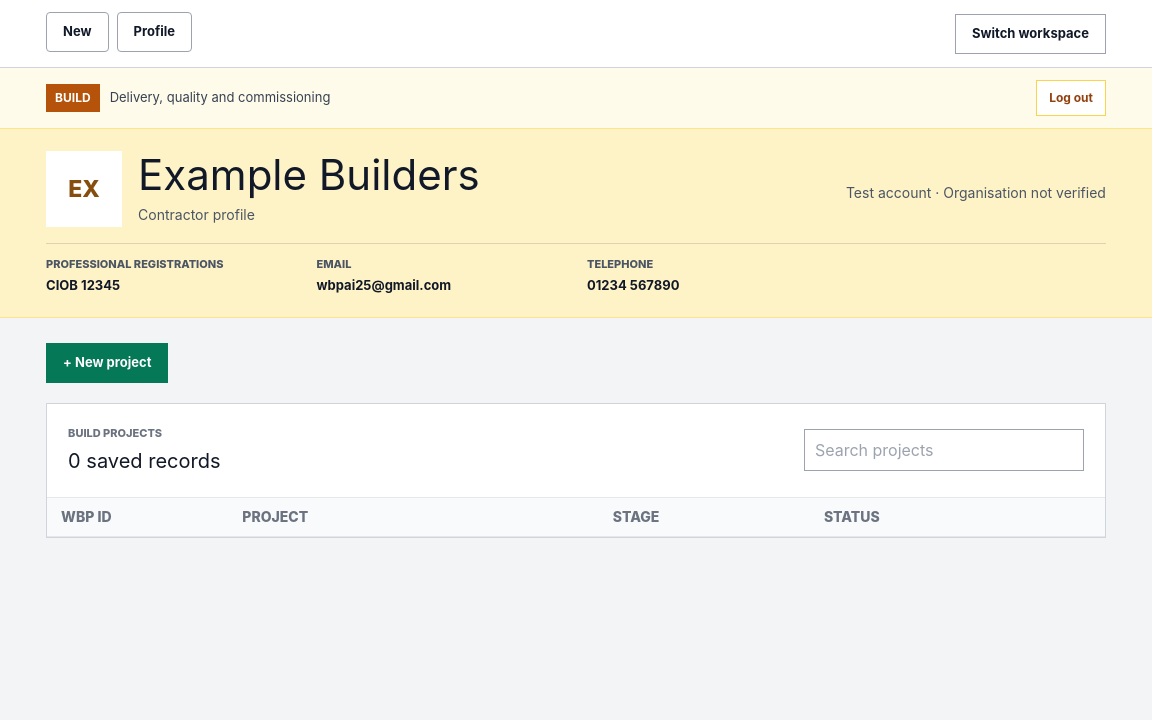
Test case: Build New tab opens and saves a build-specific record
Click the button "+ New project".
click(107, 363)  # box [46,343,168,383]
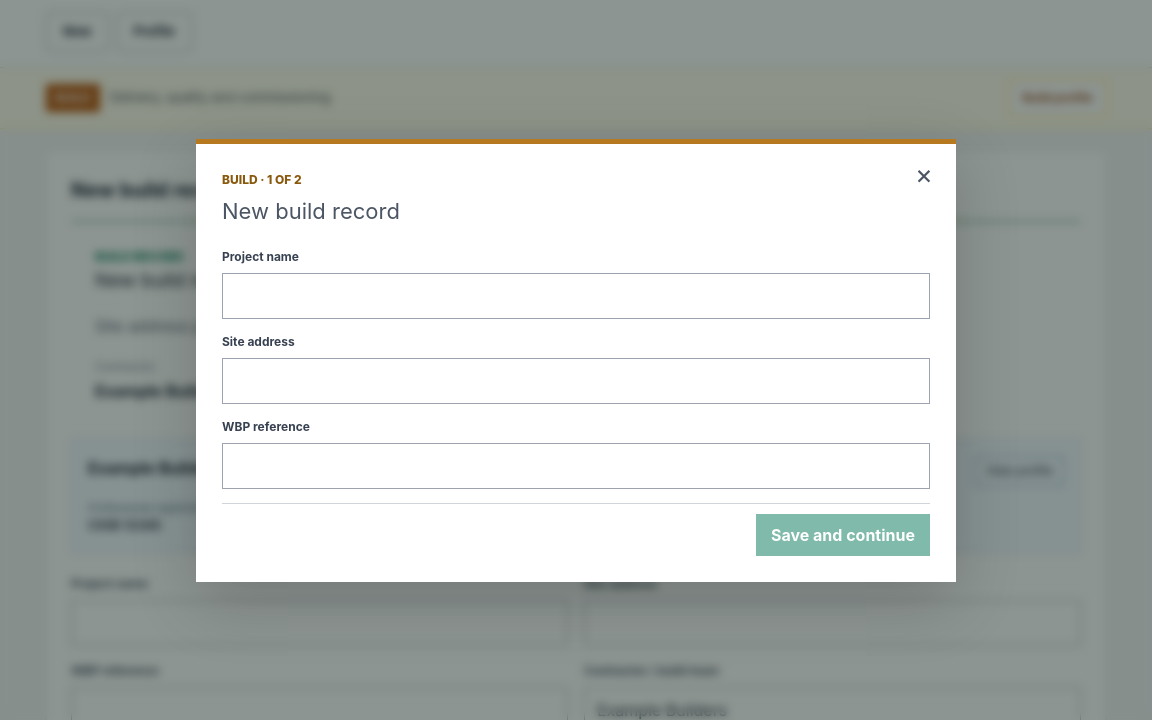
Type "Bridgewood retrofit" into the field labelled "Project name".
click(576, 296); type("Bridgewood retrofit")  # box [222,272,930,318]
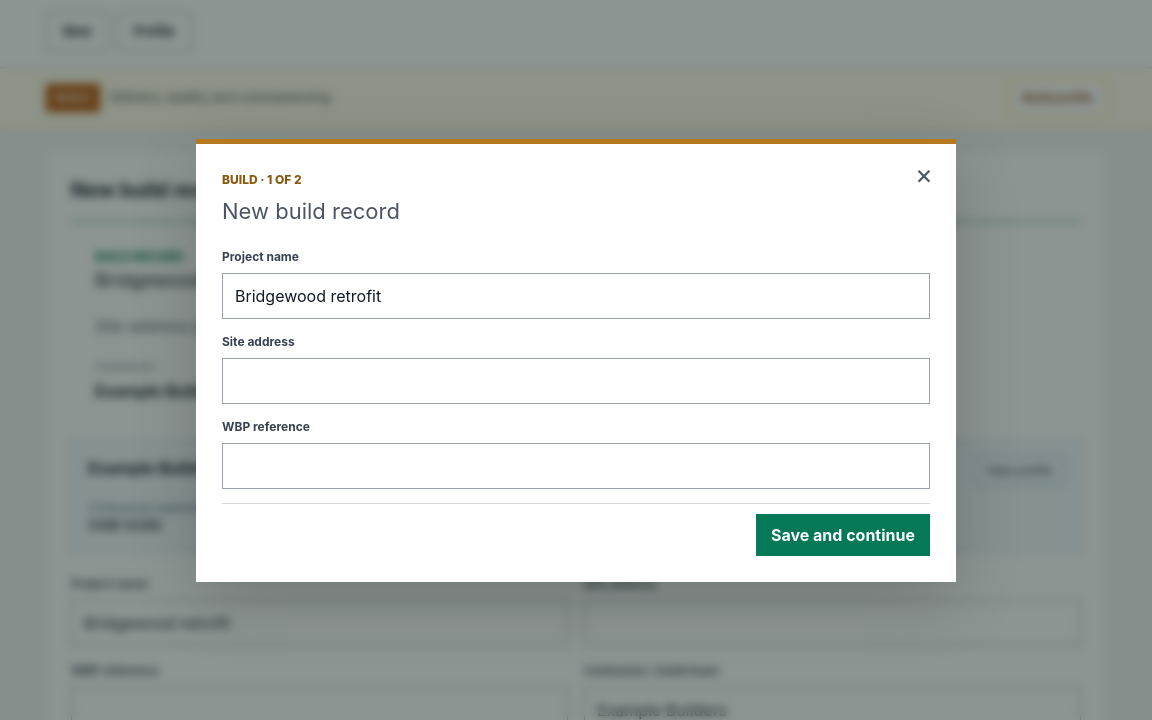
Type "14 Bridgewood Road" into the field labelled "Site address".
click(576, 380); type("14 Bridgewood Road")  # box [222,358,930,404]
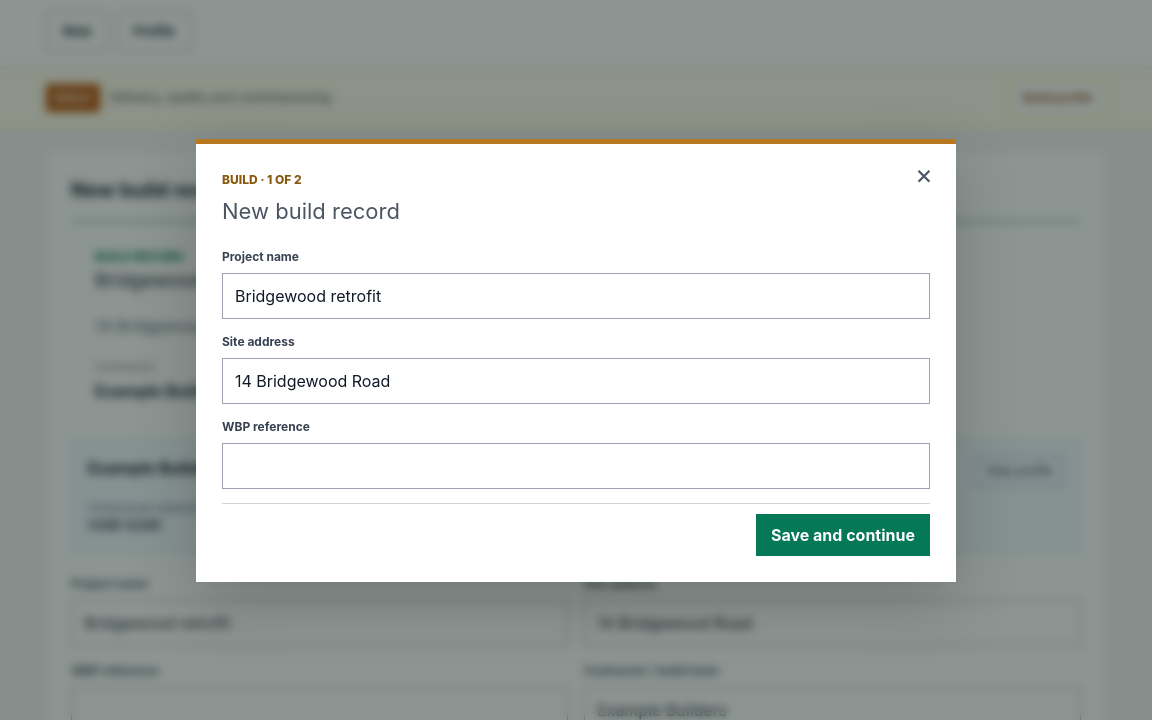
Click the button "Save and continue".
click(843, 534)  # box [756,514,930,556]
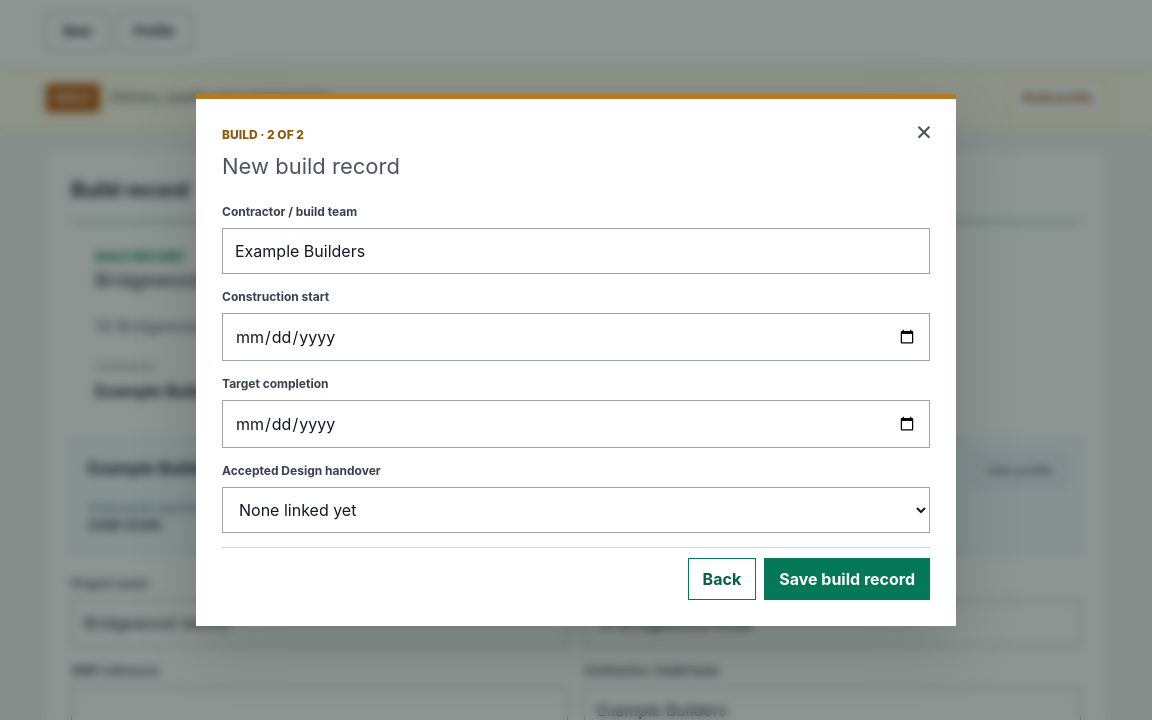
Check: the text "Build · 2 of 2" is shown, box [222,127,304,142]
Check: the field labelled "Contractor / build team" holds "Example Builders", box [222,228,930,274]
Click the button "Save build record".
click(847, 579)  # box [764,558,930,600]
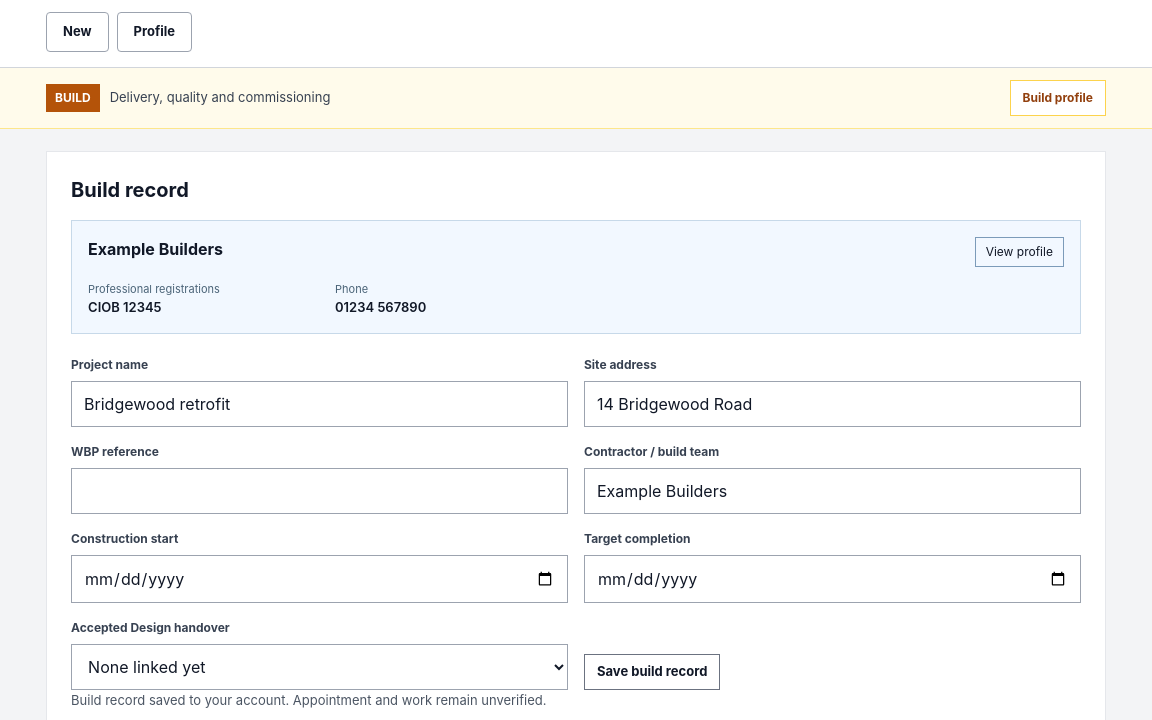
Check: the heading "New build record" is gone
